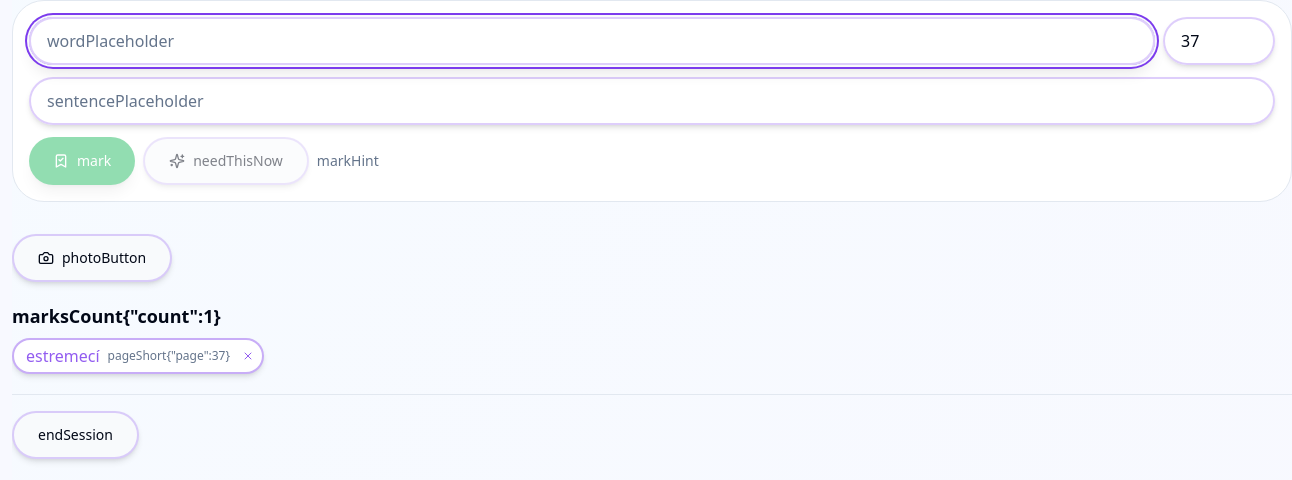
Test: BookSession capture bar › undoes a mark made by mistake
Click the button named "unmark". click: (248, 356)
box: [238, 346, 258, 366]
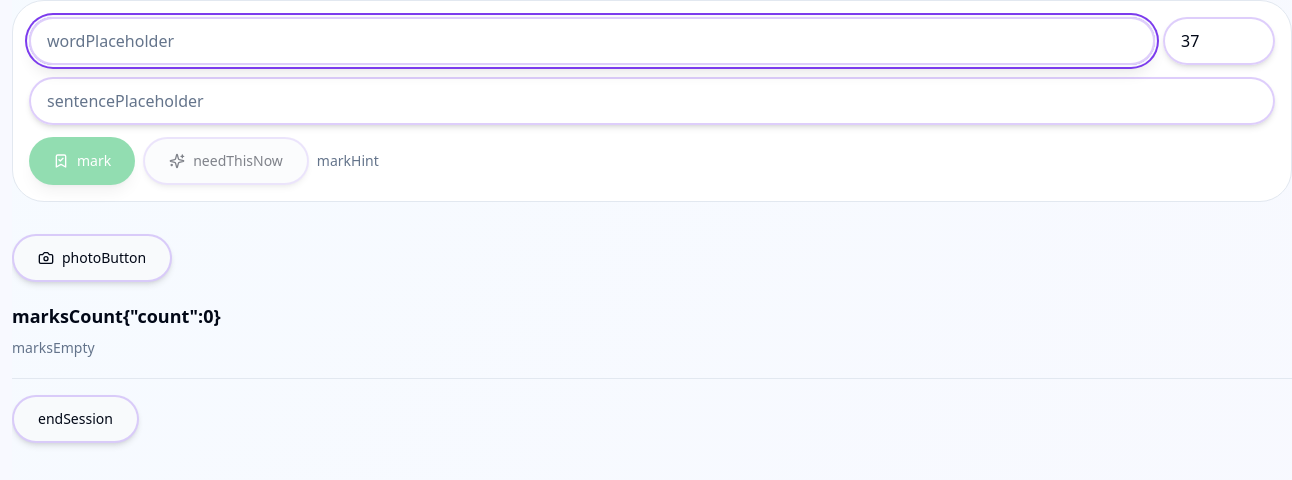
Check: the text "estremecí" is gone
